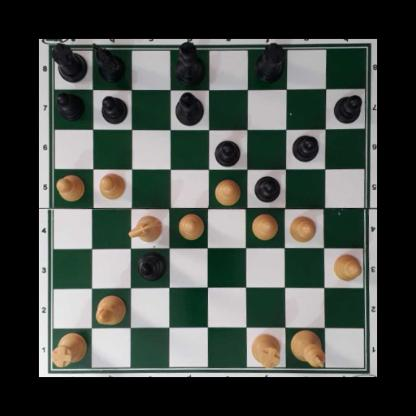black-bishop: (174, 92, 204, 127), (136, 249, 167, 281)
black-king: (175, 40, 206, 86)
black-knight: (92, 44, 125, 80)
black-pawn: (333, 93, 363, 124), (98, 96, 128, 124), (214, 137, 241, 167), (56, 91, 84, 119), (292, 133, 319, 162), (254, 174, 280, 202)
black-rook: (50, 40, 88, 82), (254, 42, 286, 82)
white-bishop: (95, 294, 127, 325)
white-king: (290, 328, 325, 368)
white-knight: (129, 216, 163, 242)
white-pawn: (332, 252, 362, 282), (98, 172, 126, 200), (212, 178, 241, 205), (289, 214, 316, 243), (56, 174, 85, 201), (251, 212, 278, 240), (178, 213, 204, 239)
white-rook: (50, 332, 87, 367), (250, 334, 280, 367)
